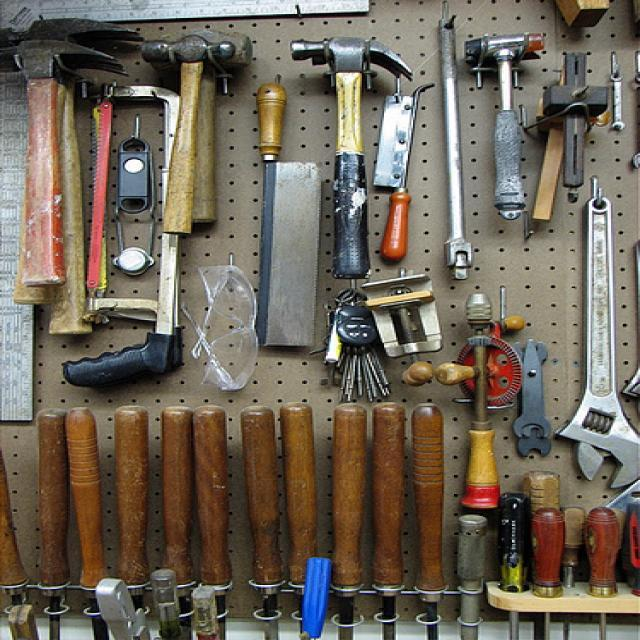hammer: (0, 21, 126, 295), (286, 32, 404, 279), (136, 25, 244, 249), (454, 23, 546, 236)
wrench: (565, 190, 640, 490)
